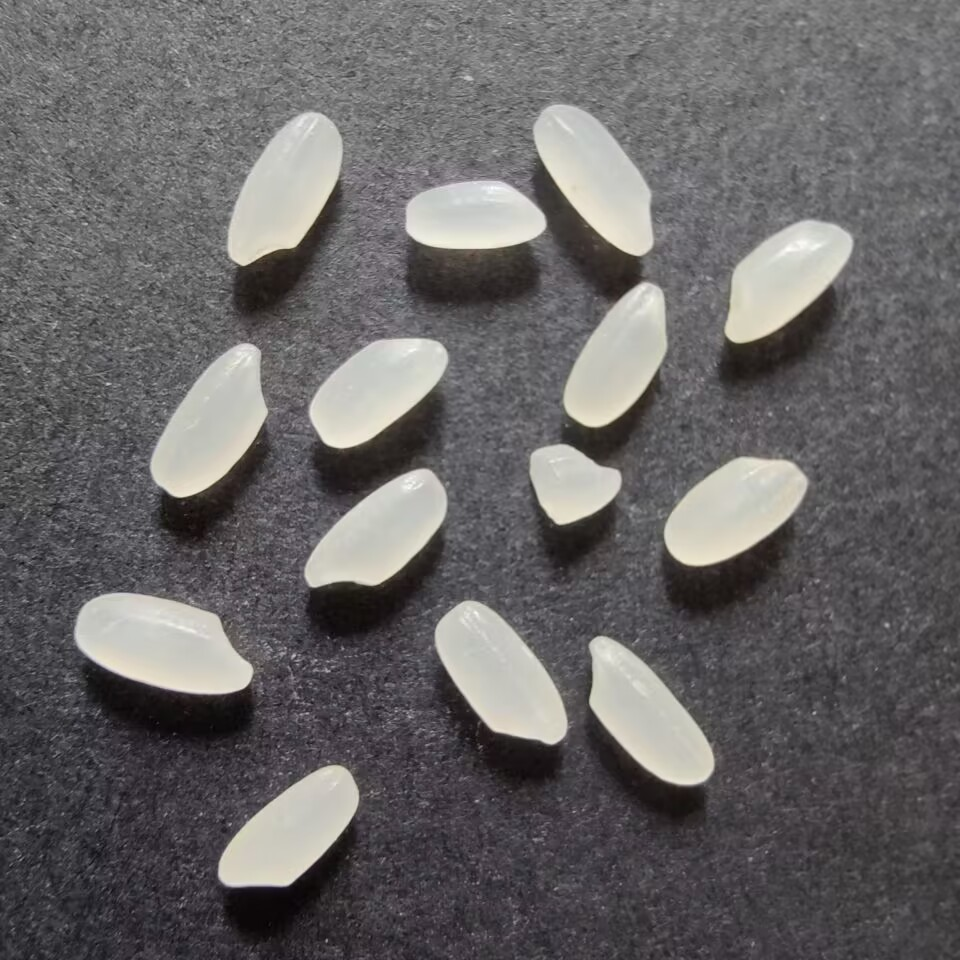broken: (522, 439, 625, 529)
rice: (579, 628, 716, 791), (432, 593, 572, 751), (532, 102, 662, 261), (223, 107, 346, 274), (70, 589, 258, 698), (146, 339, 269, 504), (212, 760, 363, 893), (299, 465, 451, 594), (715, 215, 859, 350), (656, 452, 810, 576), (304, 333, 455, 455), (557, 276, 670, 429), (395, 176, 553, 251)
